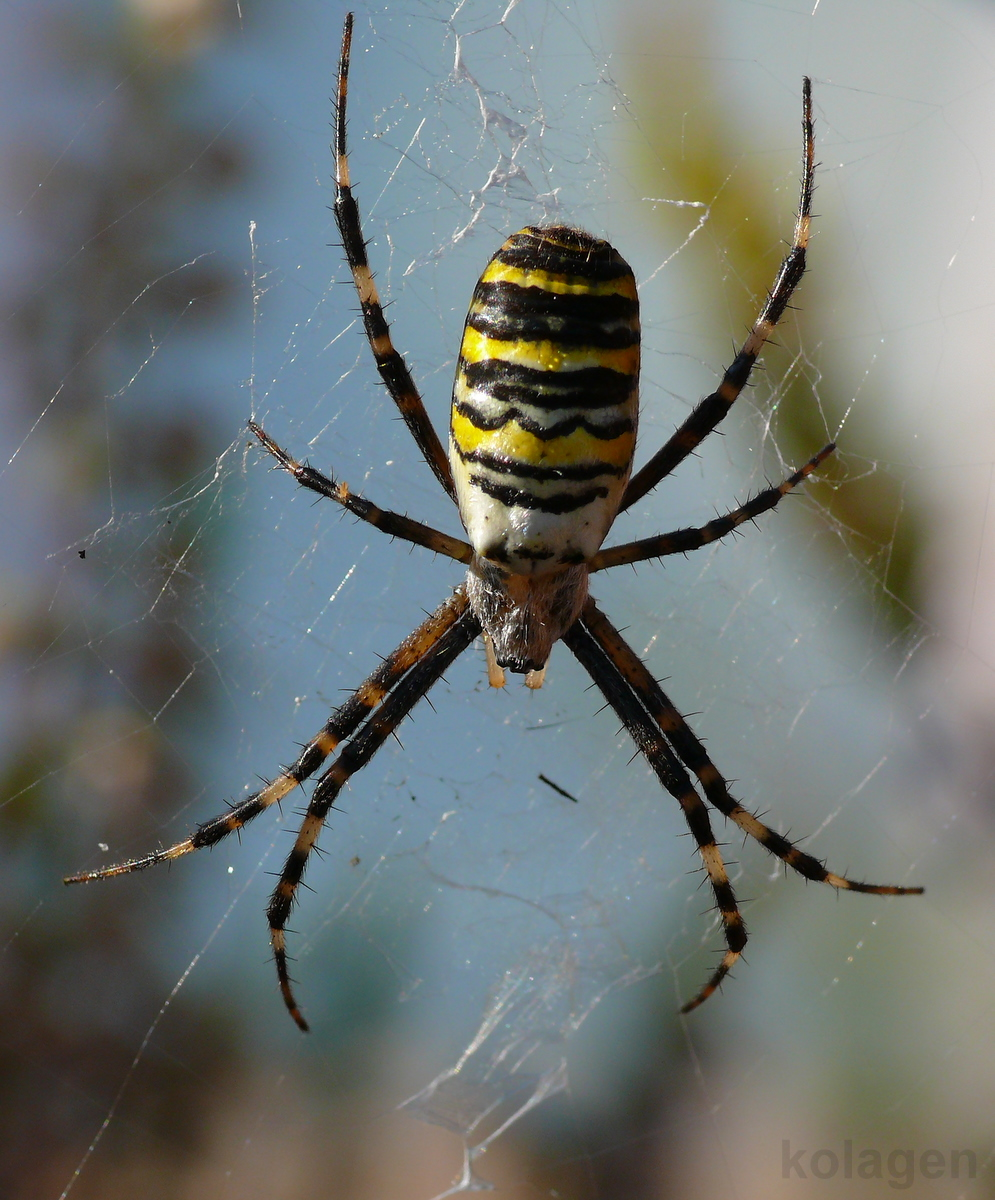spider: (30, 6, 991, 1078)
